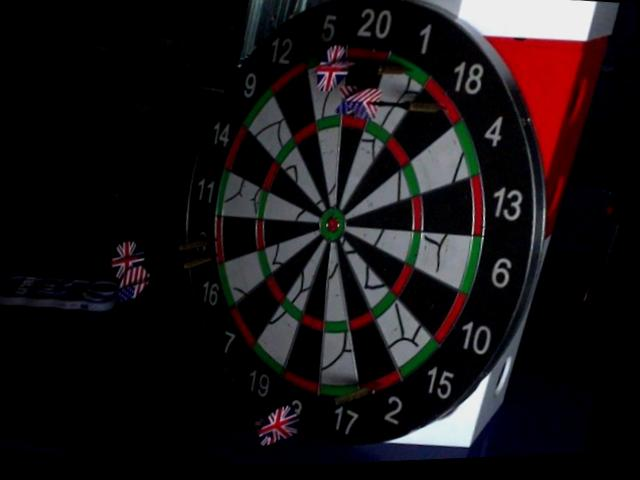double_1: (388, 56, 428, 86)
double_18: (425, 80, 463, 126)
double_2: (358, 375, 397, 394)
double_8: (213, 216, 229, 261)
